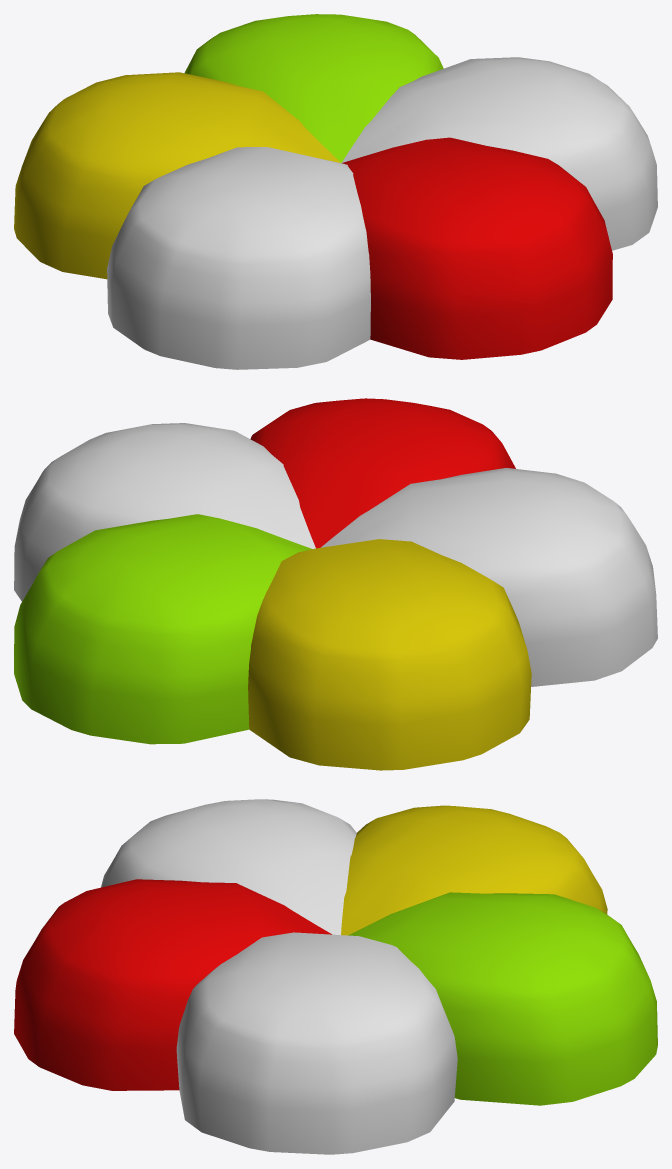
Rendered from msh_foothold.fbx.
3 views of the same model, one above another, from view 1: azimuth 30°, elevation 25°; view 2: azimuth 150°, elevation 25°; view 3: azimuth 270°, elevation 25° (orthographic). The views are drawn at different scales.
Visible parts, largest first — view 1: low; view 2: low; view 3: low.
Boxes of the visible parts, x1,y1,x2,y2 form: low: (14, 14, 657, 369); low: (14, 398, 657, 770); low: (14, 799, 657, 1154).
Size of the model in its own units: 126 by 27.74 by 129.
